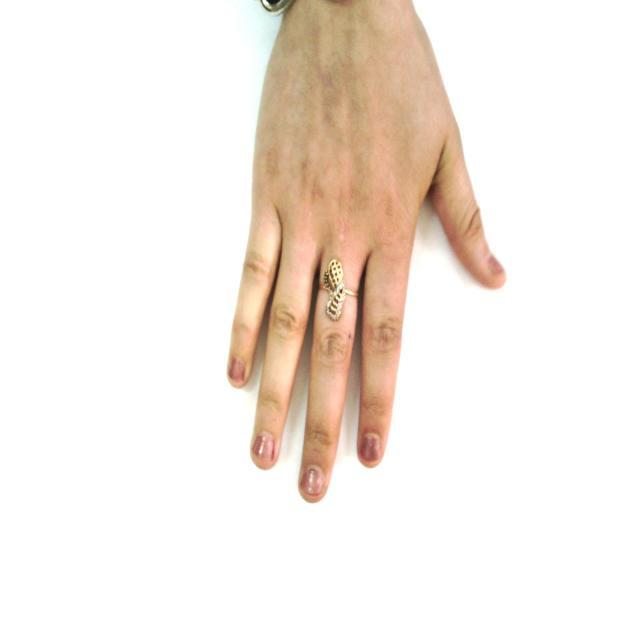Fingernail: (254, 434, 274, 464), (304, 467, 324, 495), (362, 434, 380, 460), (229, 359, 244, 382), (489, 255, 504, 272)
